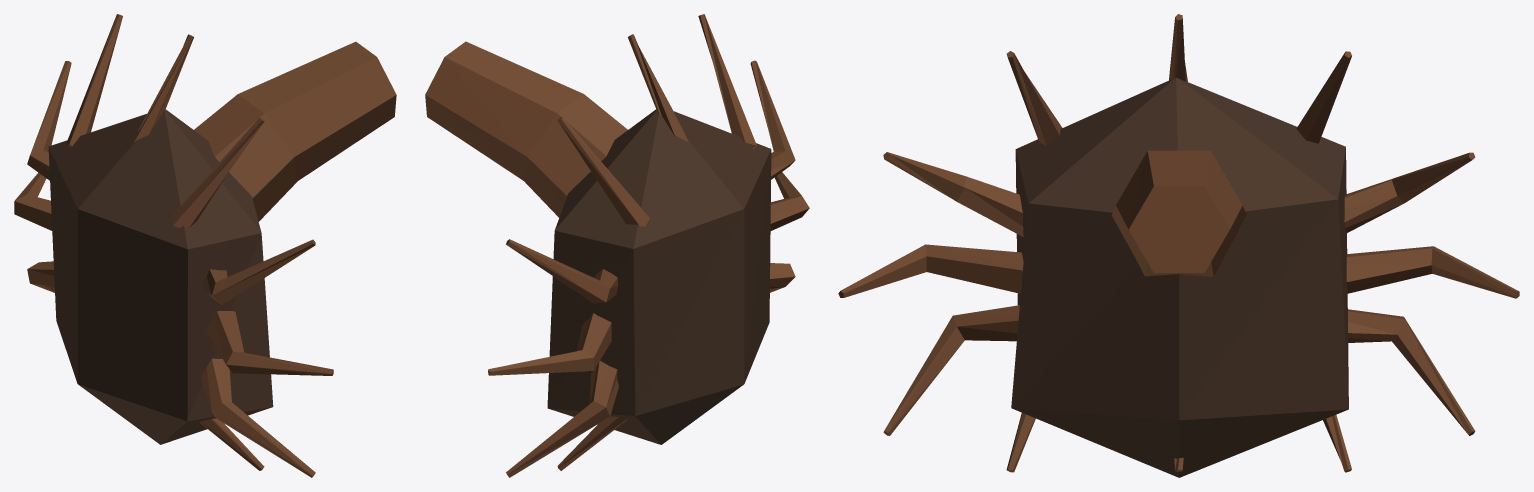
Rendered from Prop_Common_UpturnedRootBall_001_LOD1.glb.
The picture shows the model from 3 angles, left to right: view 1: azimuth 30°, elevation 25°; view 2: azimuth 150°, elevation 25°; view 3: azimuth 270°, elevation 25°; orthographic projection. The views are drawn at different scales.
Visible parts, largest first — view 1: Prop_Common_UpturnedRootBall_001_LOD1; view 2: Prop_Common_UpturnedRootBall_001_LOD1; view 3: Prop_Common_UpturnedRootBall_001_LOD1.
Boxes of the visible parts, box(x1,y1,x2,y2) form: Prop_Common_UpturnedRootBall_001_LOD1: box(14, 14, 396, 477); Prop_Common_UpturnedRootBall_001_LOD1: box(425, 14, 809, 477); Prop_Common_UpturnedRootBall_001_LOD1: box(838, 14, 1519, 477).
Size of the model in its own units: 2 by 2.51 by 3.23.
